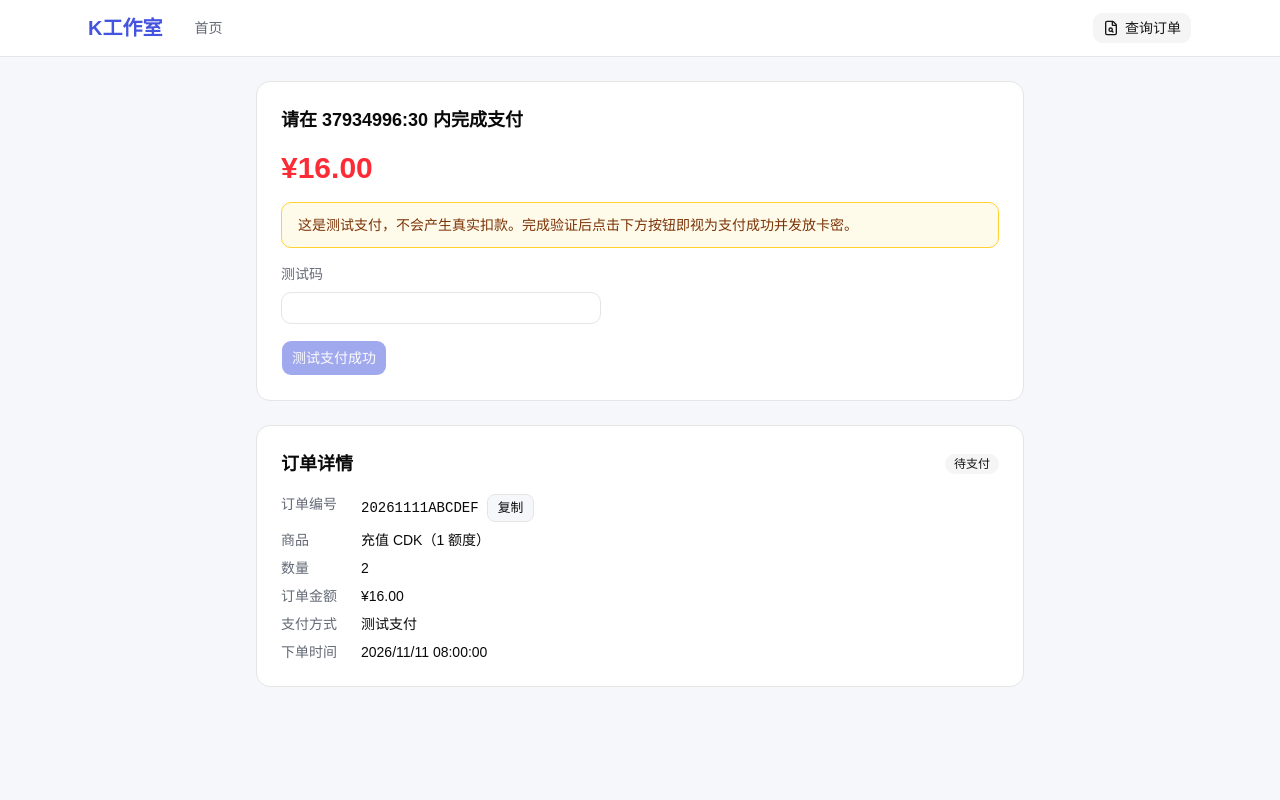
Test: asks for the test code and a Turnstile token before paying
Check: the button "测试支付成功" is disabled, box [281, 340, 387, 376]
In the field labelled "测试码": (441, 308) [281, 292, 601, 324], type "wrong-code"
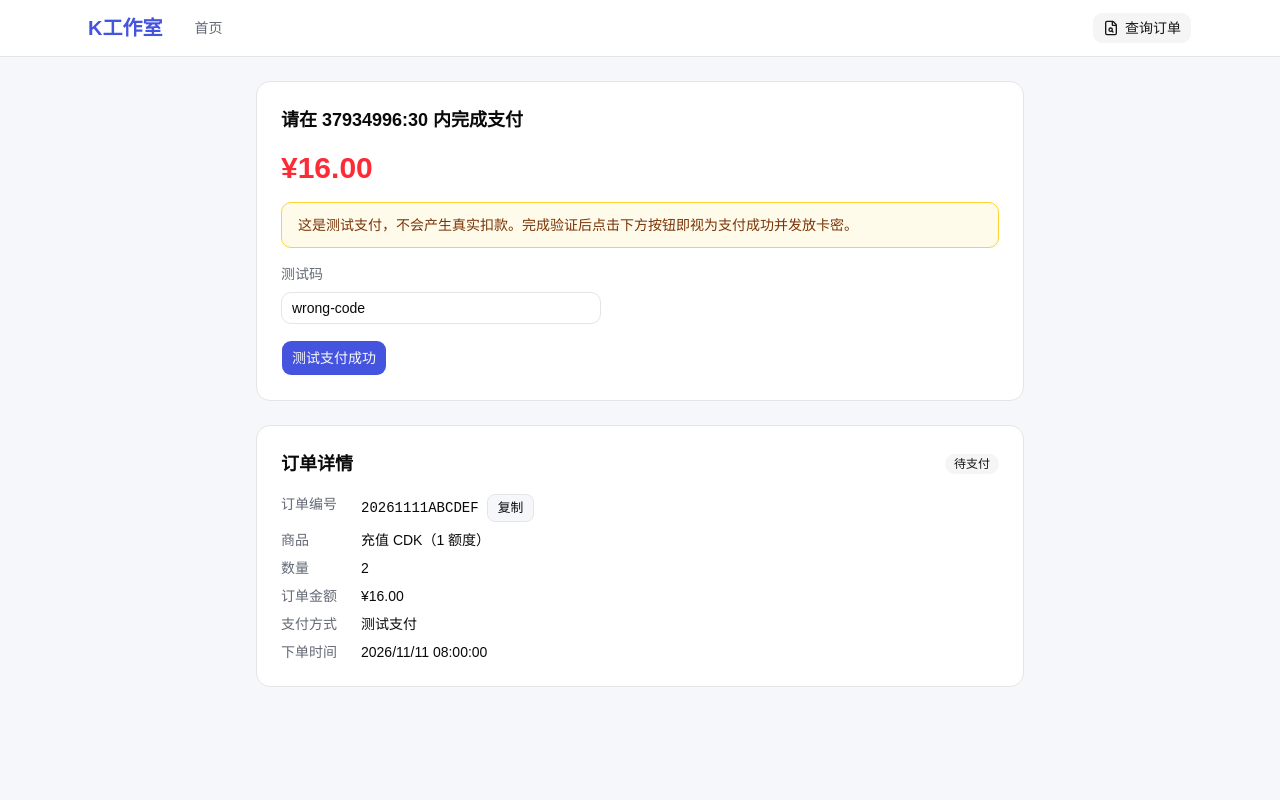
Check: the button "测试支付成功" is enabled
Click the button "测试支付成功": (334, 358) [281, 340, 387, 376]
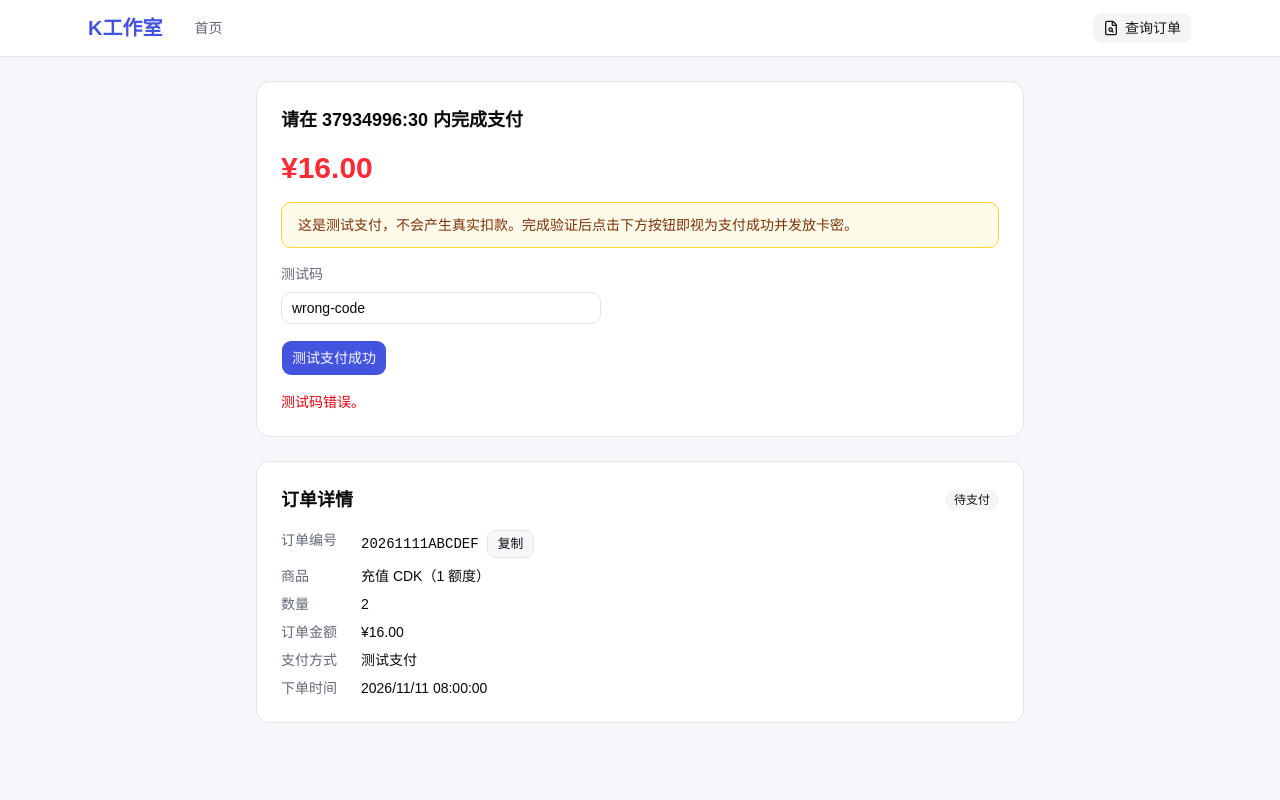
Check: the message shows "测试码错误", box [281, 394, 365, 410]
Replace the text in the field labelled "测试码" with "test-code-123": (441, 308) [281, 292, 601, 324]
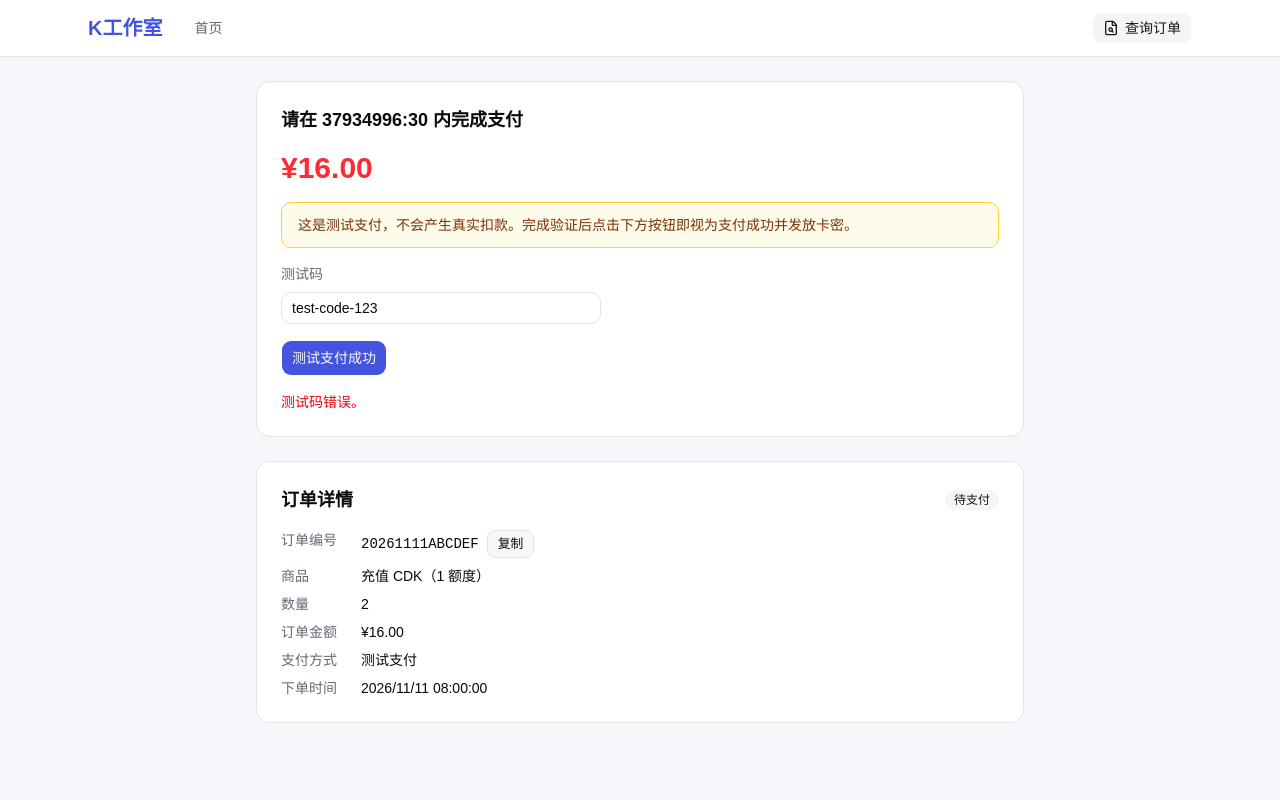
Click the button "测试支付成功": (334, 358) [281, 340, 387, 376]
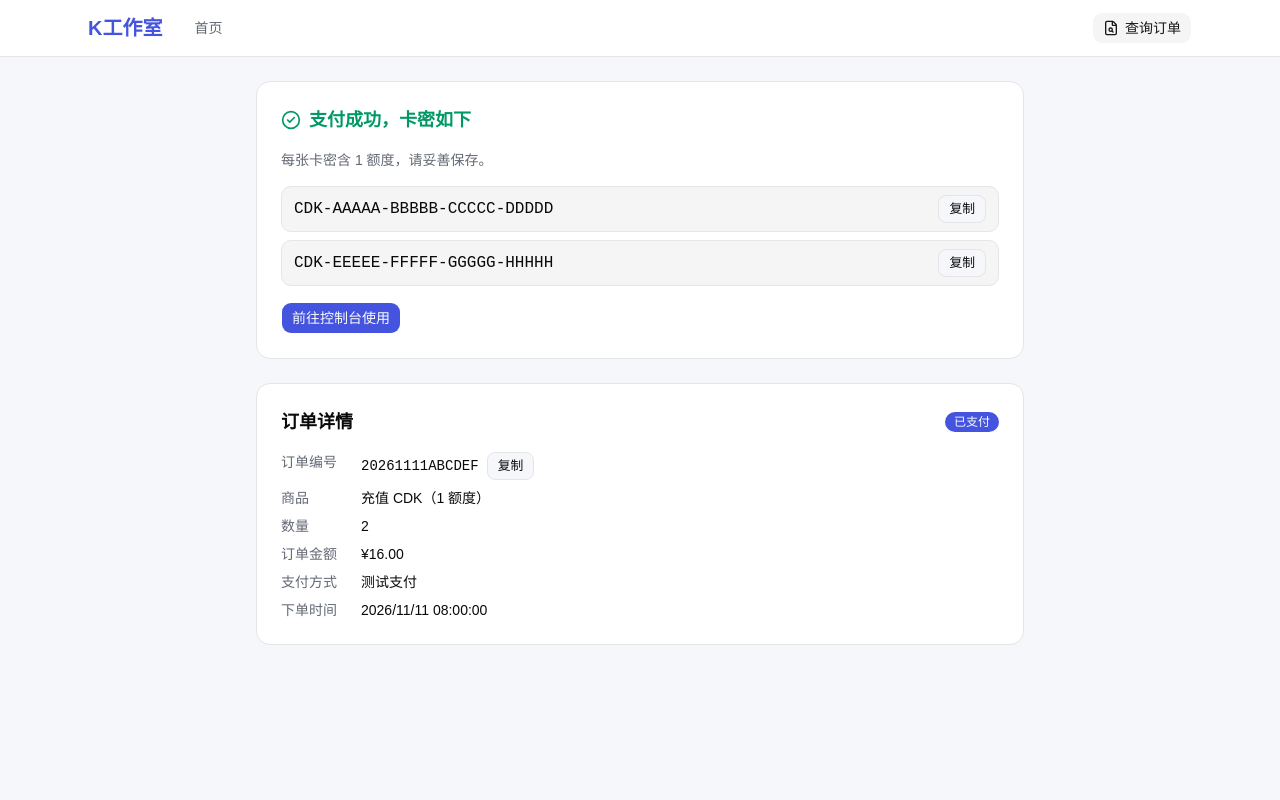
Check: the text "CDK-AAAAA-BBBBB-CCCCC-DDDDD" is shown, box [294, 197, 553, 221]
